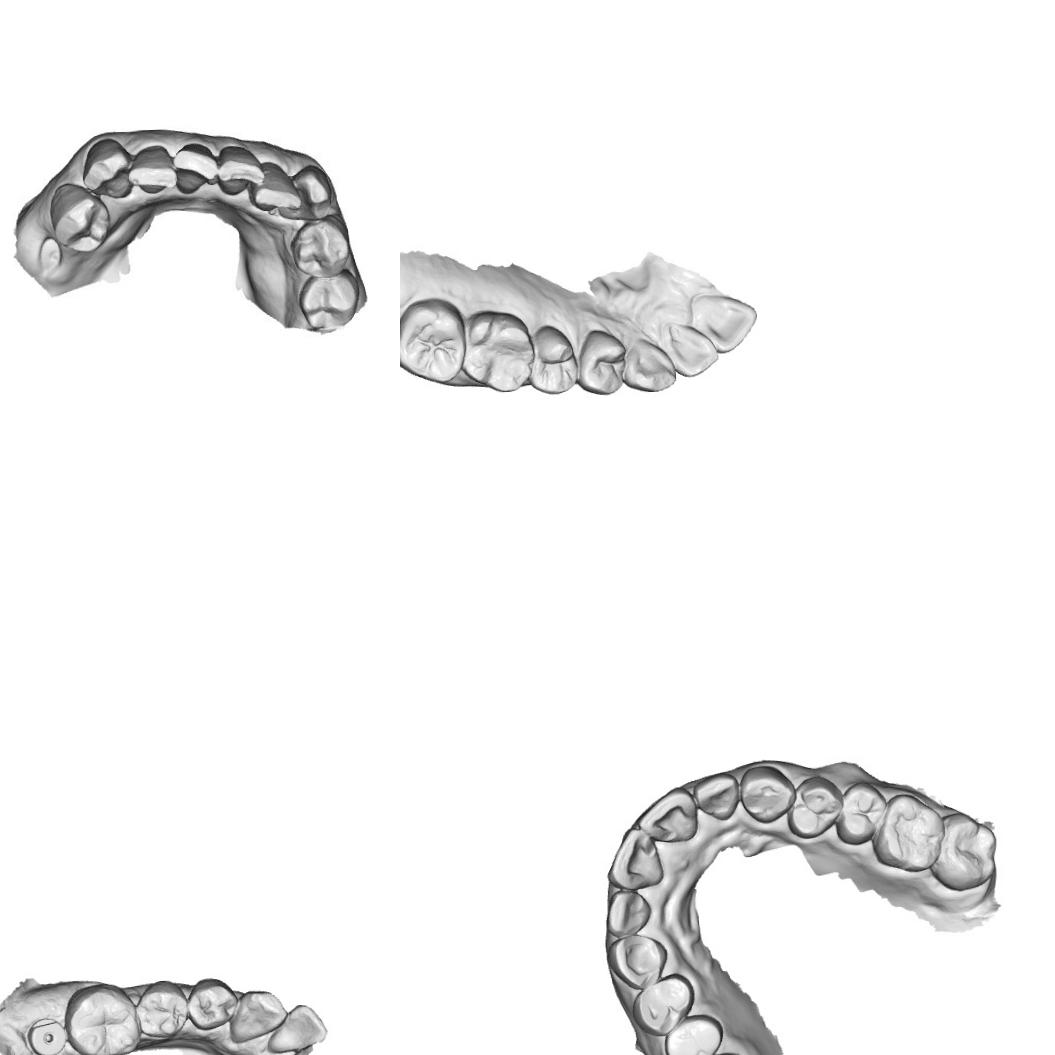canine: (606, 932, 670, 993), (737, 763, 798, 824), (228, 988, 290, 1044), (620, 336, 678, 394), (84, 138, 132, 192), (299, 166, 337, 219)
implant: (26, 1014, 70, 1055)
incisor: (688, 290, 760, 356), (604, 824, 666, 892), (636, 785, 700, 845), (660, 318, 720, 379), (264, 1001, 330, 1055), (602, 888, 654, 940), (692, 770, 741, 822), (171, 140, 215, 196), (256, 164, 298, 218), (217, 145, 263, 194), (131, 146, 174, 193)
molar: (460, 306, 537, 394), (869, 790, 947, 873), (400, 296, 469, 384), (928, 810, 1000, 893), (63, 980, 140, 1055)
premolar: (629, 972, 698, 1039), (784, 773, 845, 841), (524, 323, 580, 397), (51, 184, 109, 254), (833, 780, 890, 848), (297, 219, 354, 284), (574, 328, 628, 396), (302, 270, 359, 334), (134, 978, 190, 1042), (187, 975, 241, 1033), (661, 1011, 725, 1055)
